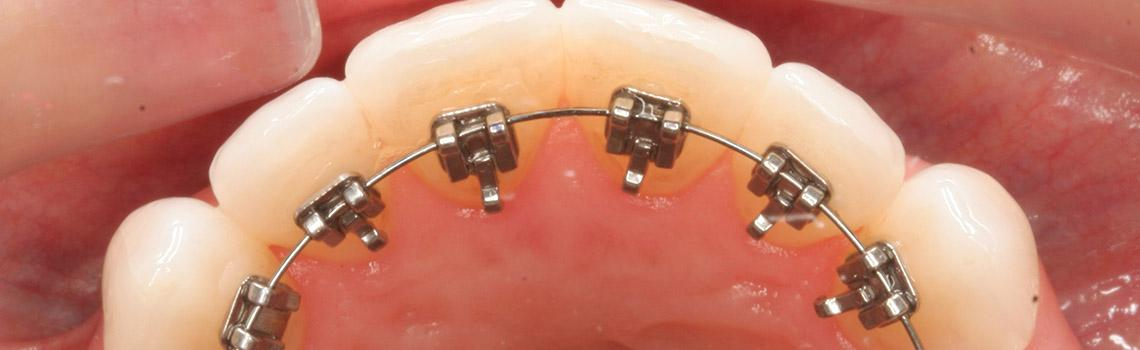Braces: (215, 75, 935, 349)
